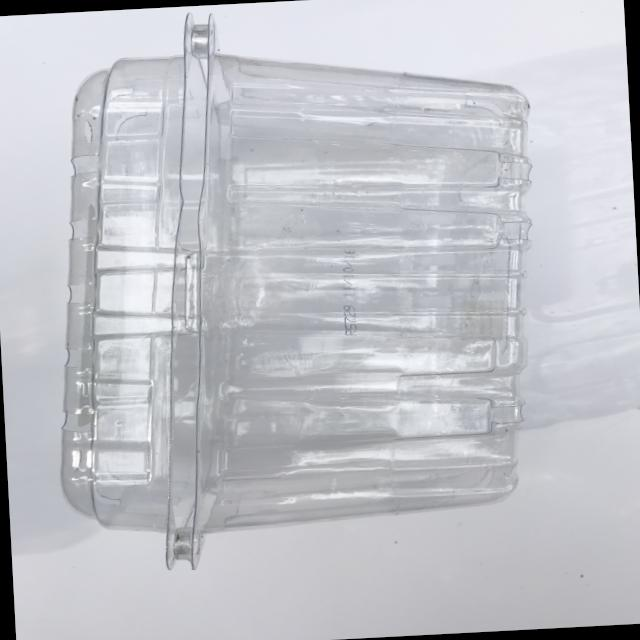Plastic: (23, 0, 564, 589)
